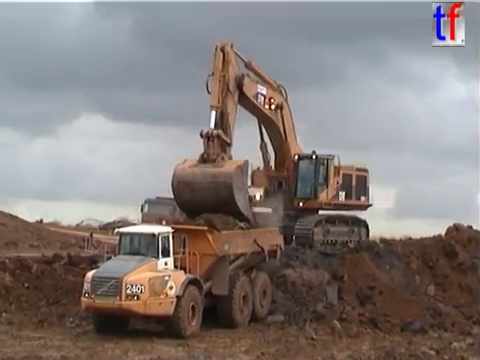excavator: (168, 39, 375, 257)
truck: (76, 221, 287, 340), (138, 194, 235, 244)
